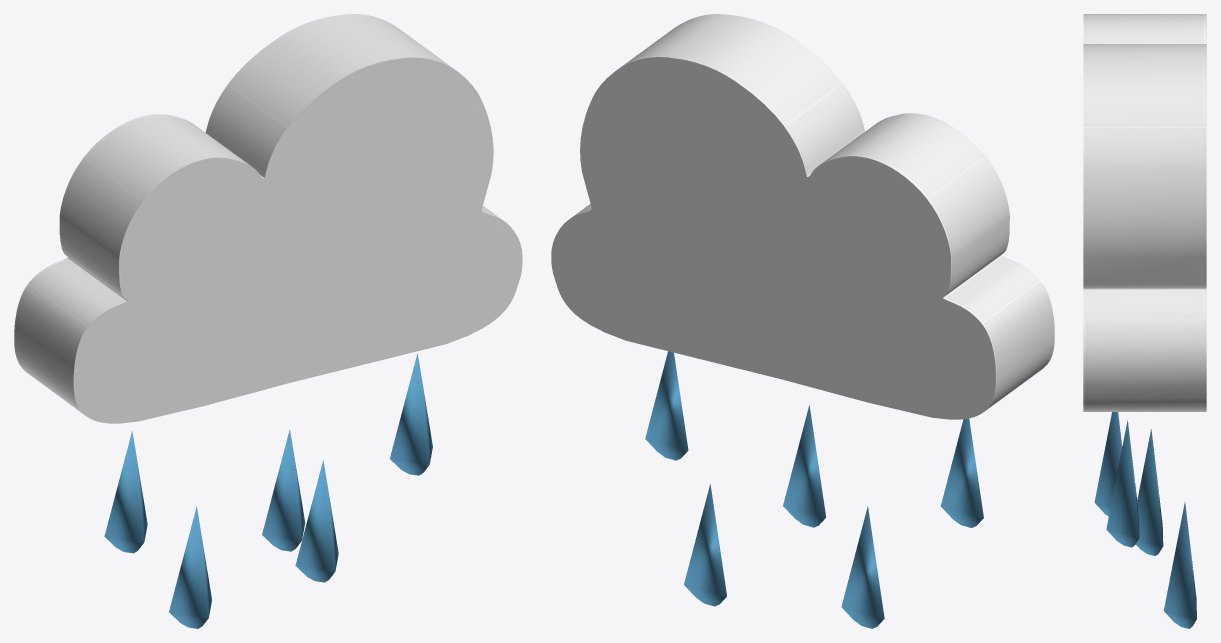
The model's file is rain_icon.glb.
3 renders of one model, left to right at view 1: azimuth 30°, elevation 25°; view 2: azimuth 150°, elevation 25°; view 3: azimuth 270°, elevation 25°, orthographic. The views are drawn at different scales.
Parts seen in each view (by area): view 1: rain_rain_0; view 2: rain_rain_0; view 3: rain_rain_0.
Part boxes in pixels (box(x1,y1,x2,y2)): rain_rain_0: box(14, 14, 522, 628); rain_rain_0: box(551, 14, 1054, 628); rain_rain_0: box(1083, 14, 1206, 628).
Bounding box in the file's own units: 22.86 × 26.89 × 5.24.
1 material, 1 textured.
